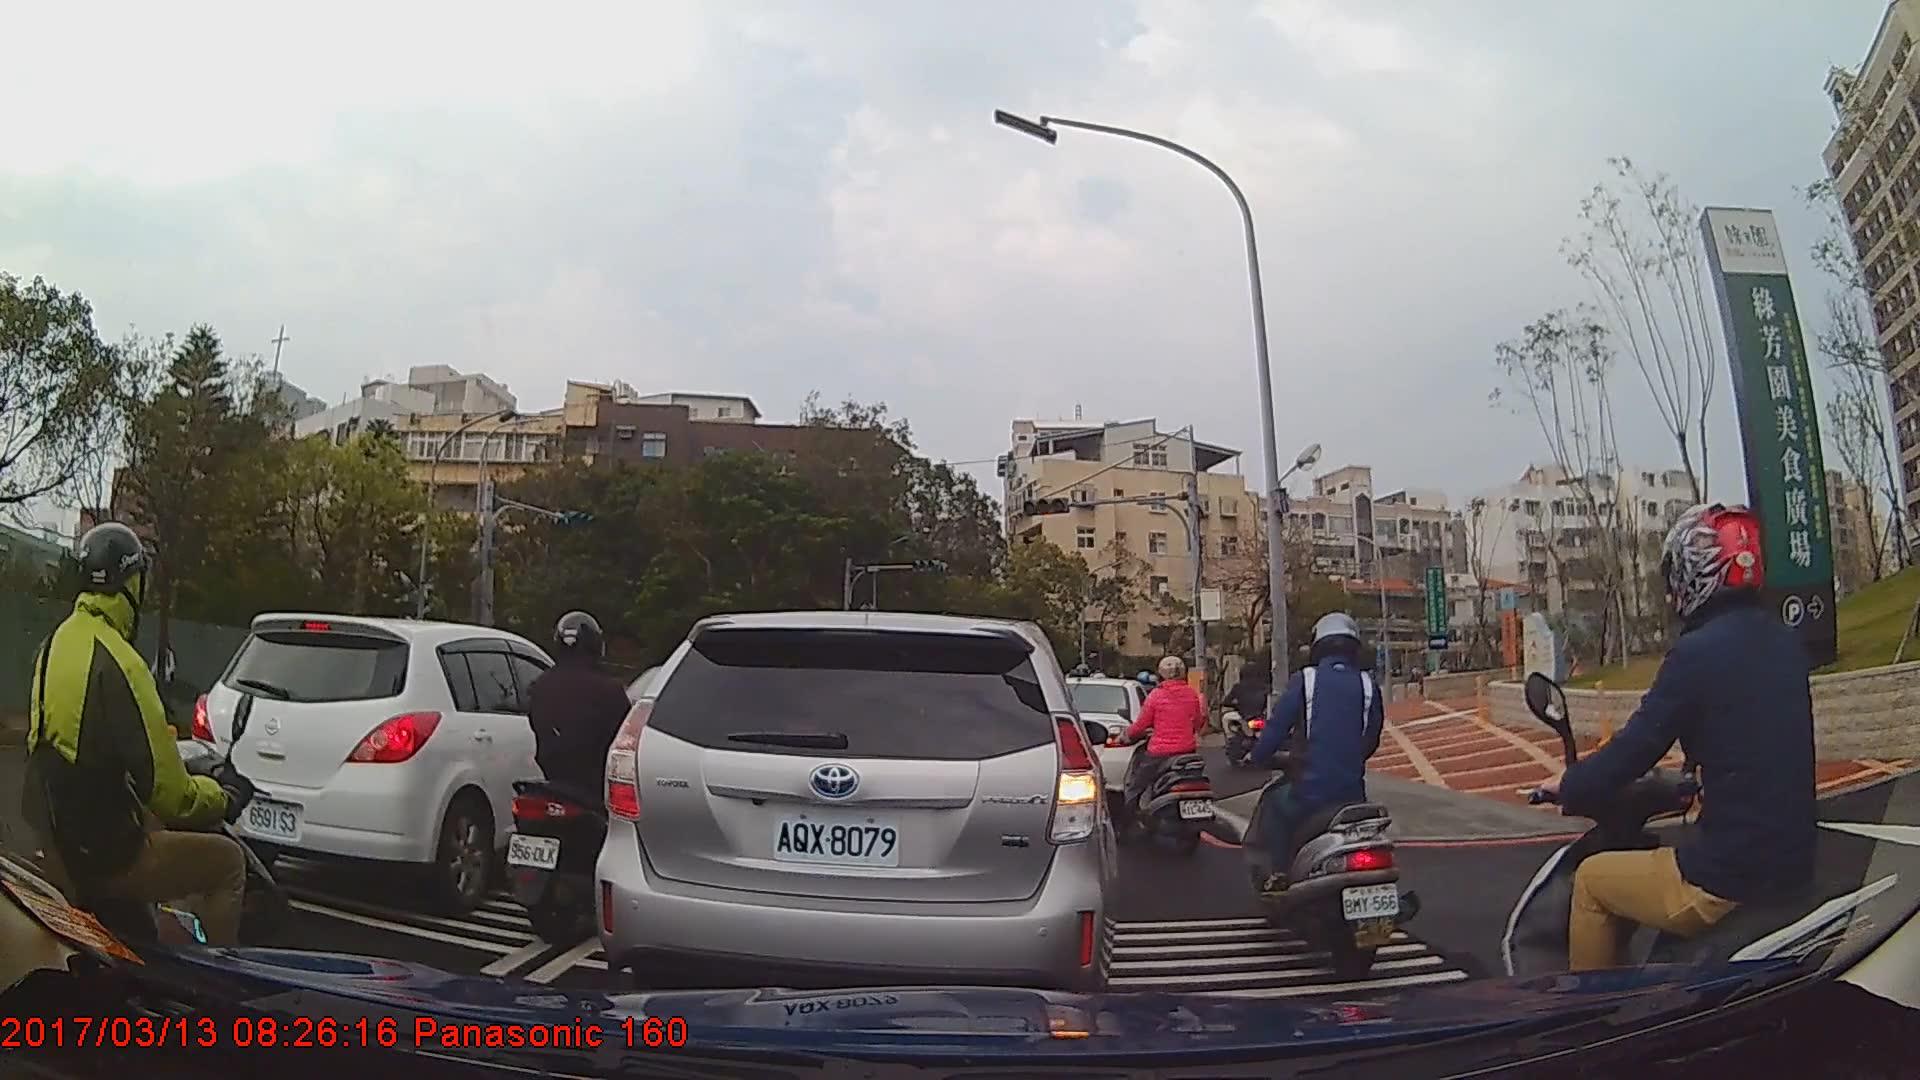pedestrian: (152, 634, 183, 720)
rider: (1501, 499, 1902, 1060), (1, 523, 299, 1062), (1237, 613, 1410, 968), (496, 609, 662, 948), (1111, 653, 1220, 863), (1221, 659, 1267, 763)
vehicle: (592, 608, 1118, 1006), (186, 611, 628, 915)
